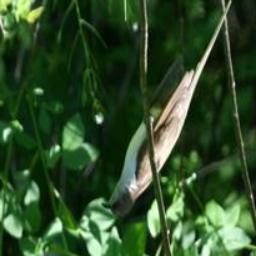Cuckoo: (102, 0, 234, 219)
